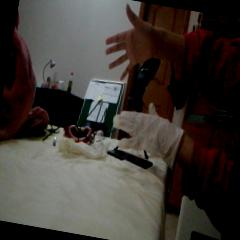gloved: (109, 95, 188, 158)
not-gloved: (98, 1, 176, 90)
